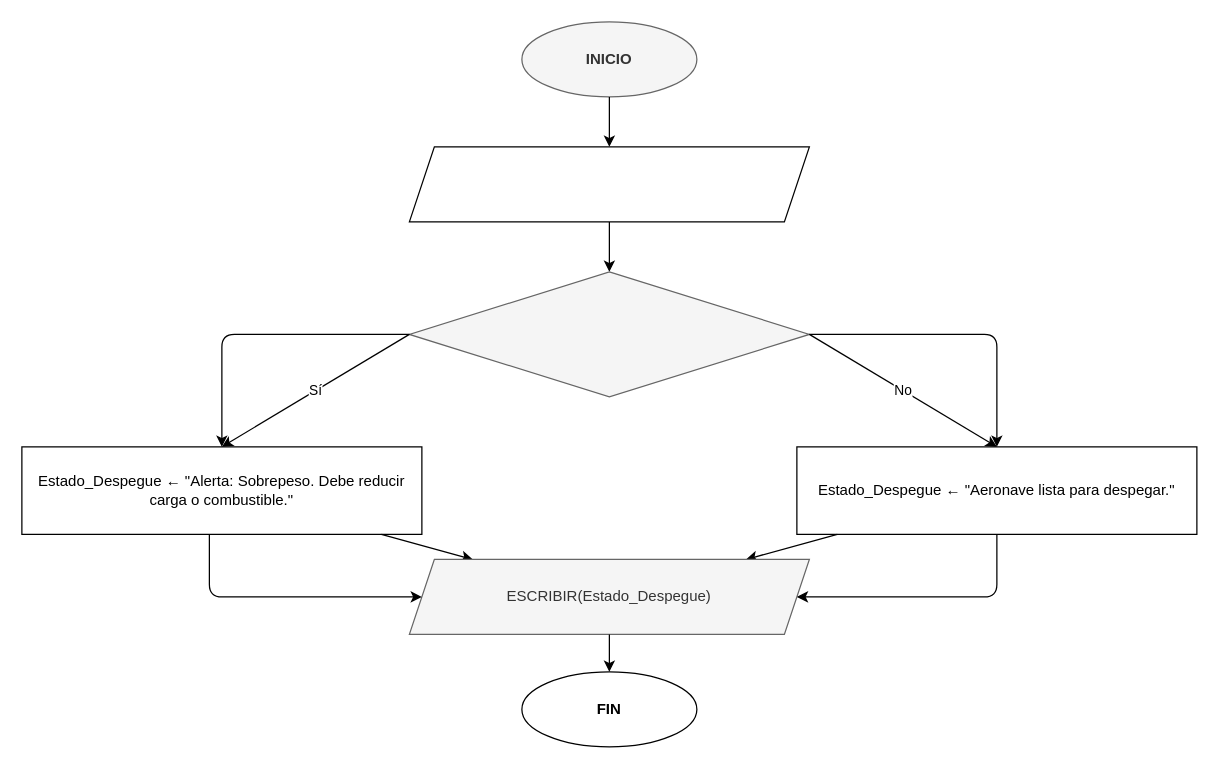
Some shapes in this 1219 by 769 pixel diagram are drawn without their labels. Each missing label, with the centre of its shape:
LEER(Peso_Total, Peso_Max_Permitido): [608,184]
¿Peso_Total > Peso_Max_Permitido?: [608,334]
